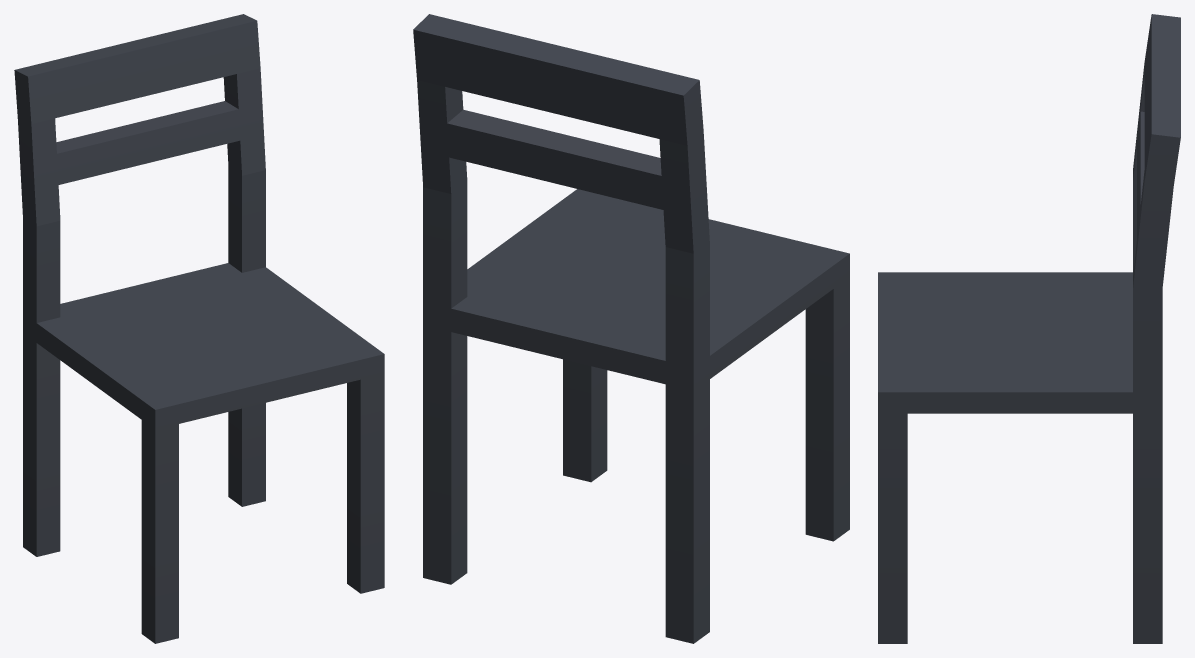
File: Chair_06.fbx
3 renders of one model, left to right at view 1: azimuth 30°, elevation 25°; view 2: azimuth 150°, elevation 25°; view 3: azimuth 270°, elevation 25°, orthographic. The views are drawn at different scales.
Parts seen in each view (by area): view 1: Chair_06; view 2: Chair_06; view 3: Chair_06.
Part boxes in pixels (box(x1,y1,x2,y2)): Chair_06: box(14, 14, 384, 643); Chair_06: box(413, 14, 849, 643); Chair_06: box(878, 14, 1180, 643).
Bounding box in the file's own units: 0.5009 × 0.99 × 0.533.
